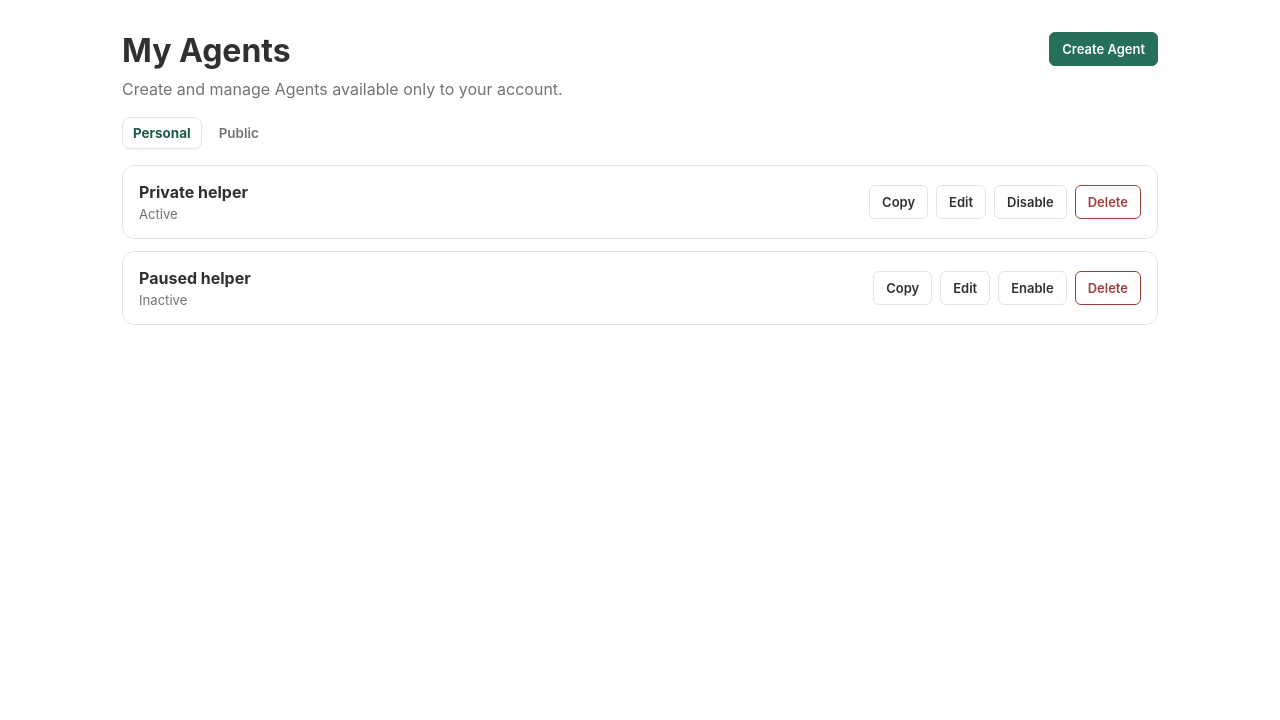
Test: AgentManagementPage › keeps a successfully created Home when Agent creation fails
Click the button "Create Agent": (1104, 49) x1=1049 y1=32 x2=1158 y2=66
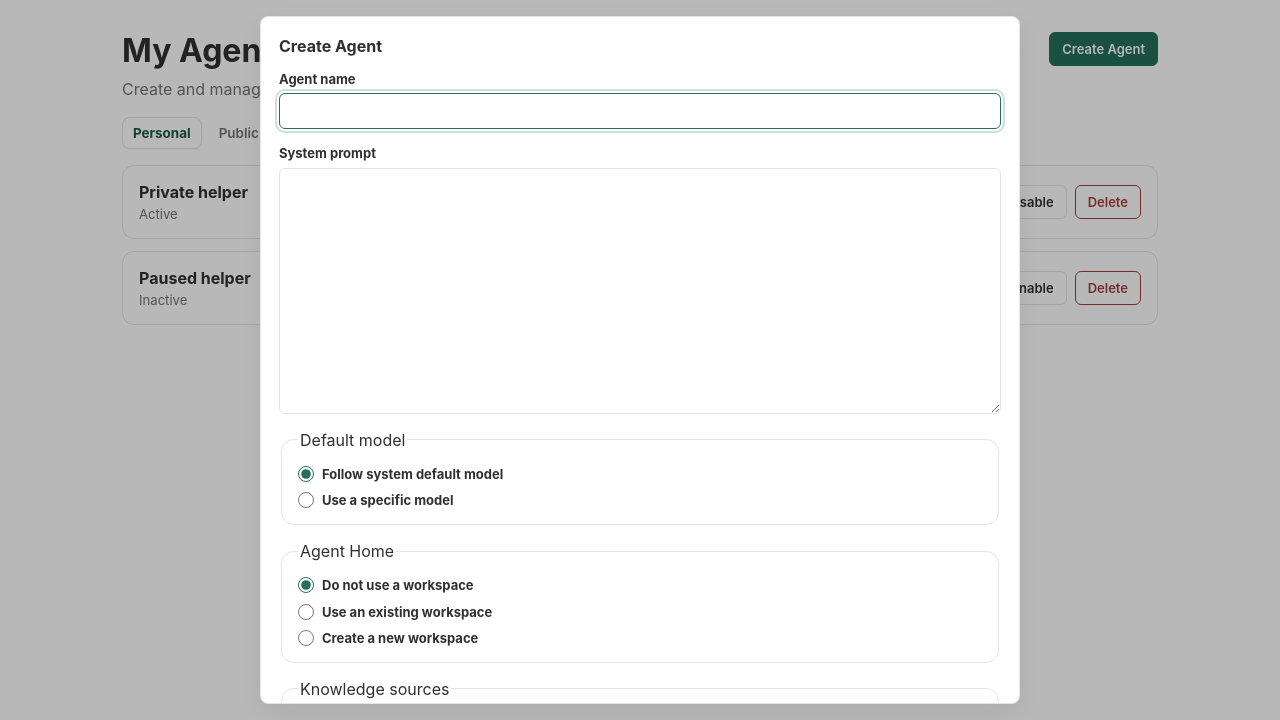
In the field labelled "Agent name": (640, 111) x1=279 y1=93 x2=1001 y2=129, type "Home helper"
In the text box labelled "System prompt": (640, 291) x1=279 y1=168 x2=1001 y2=414, type "Answer clearly."
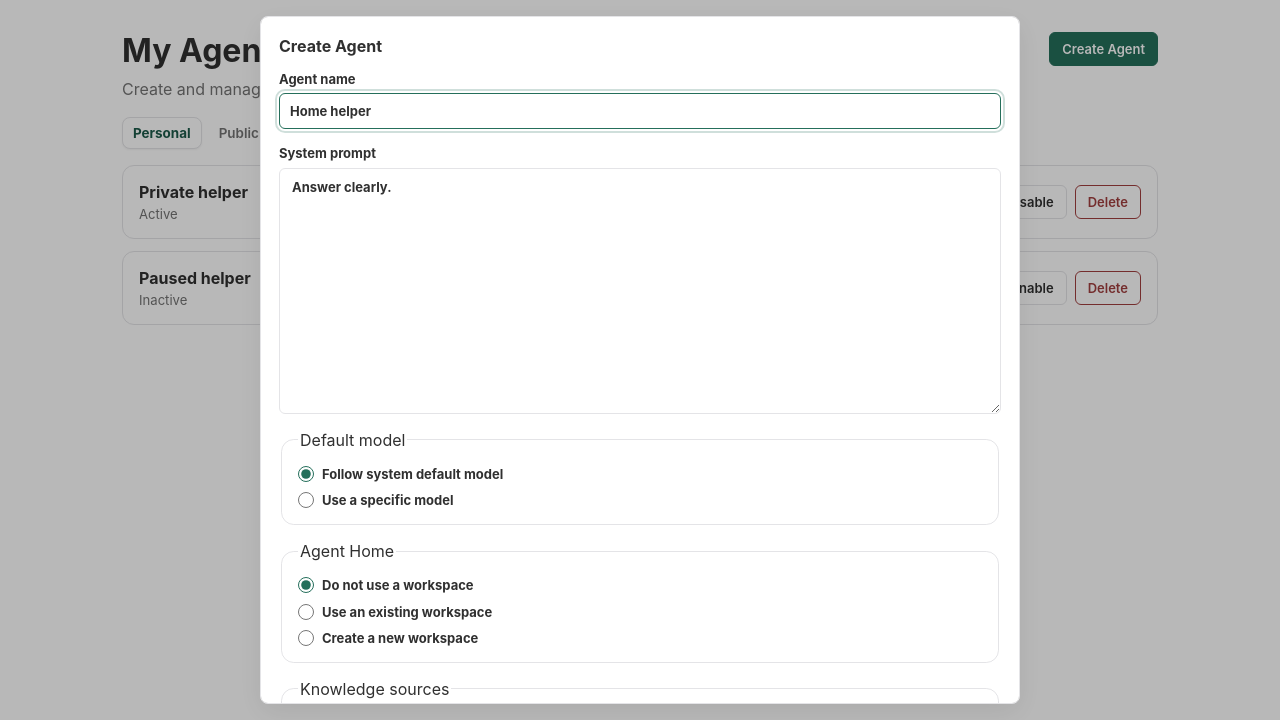
Click the radio button labelled "Create a new workspace": (306, 638) x1=298 y1=630 x2=314 y2=646
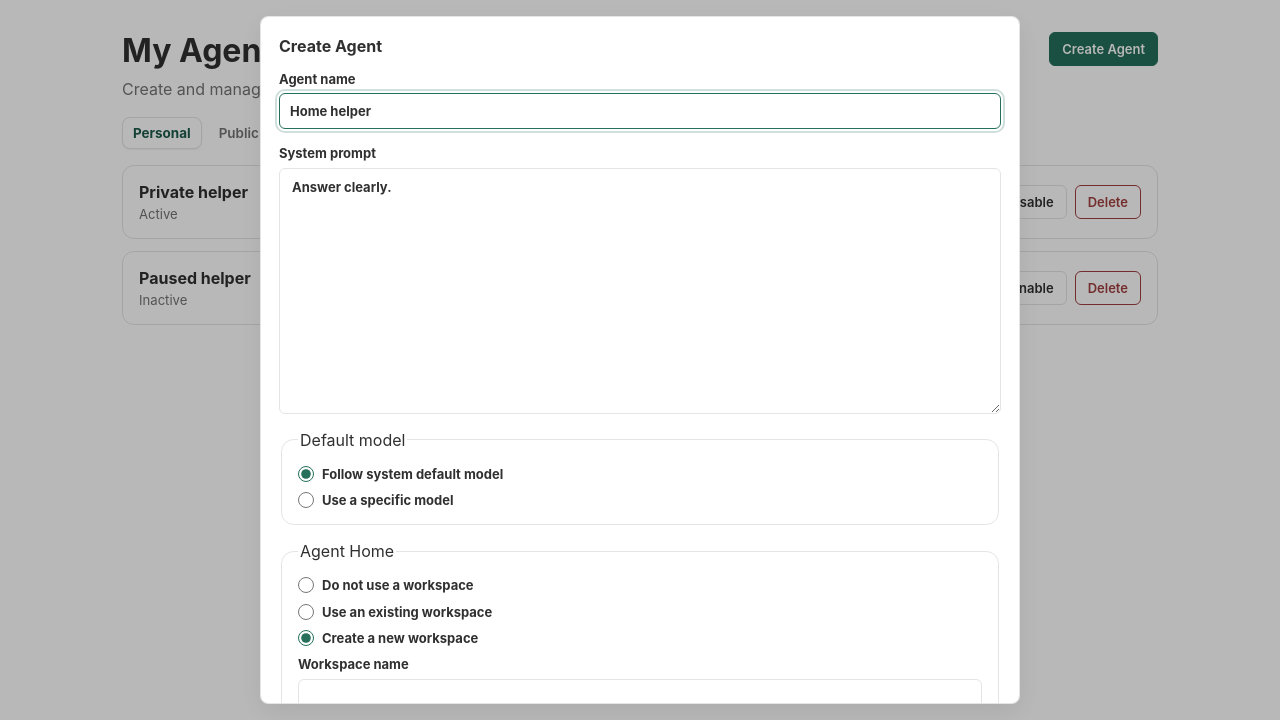
In the field labelled "Workspace name": (640, 697) x1=298 y1=679 x2=982 y2=715, type "My memory"
(page scrolled)
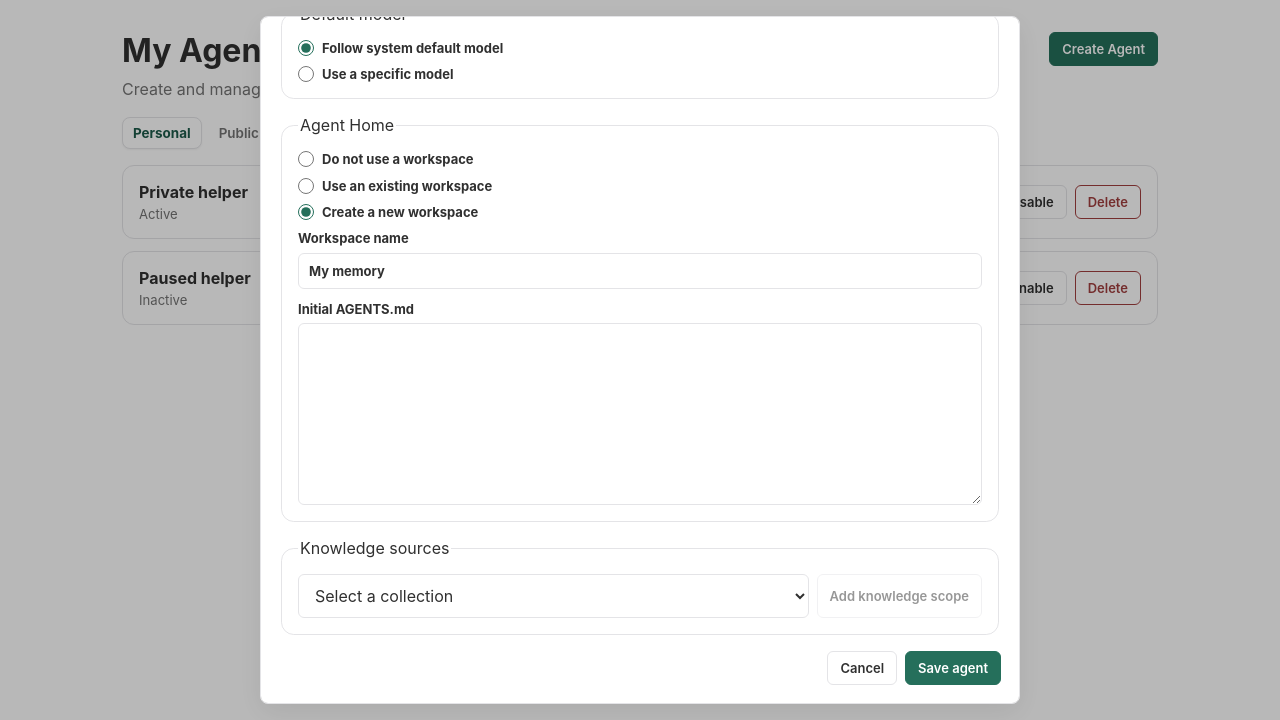
In the text box labelled "Initial AGENTS.md": (640, 414) x1=298 y1=323 x2=982 y2=505, type "# Memory rules"
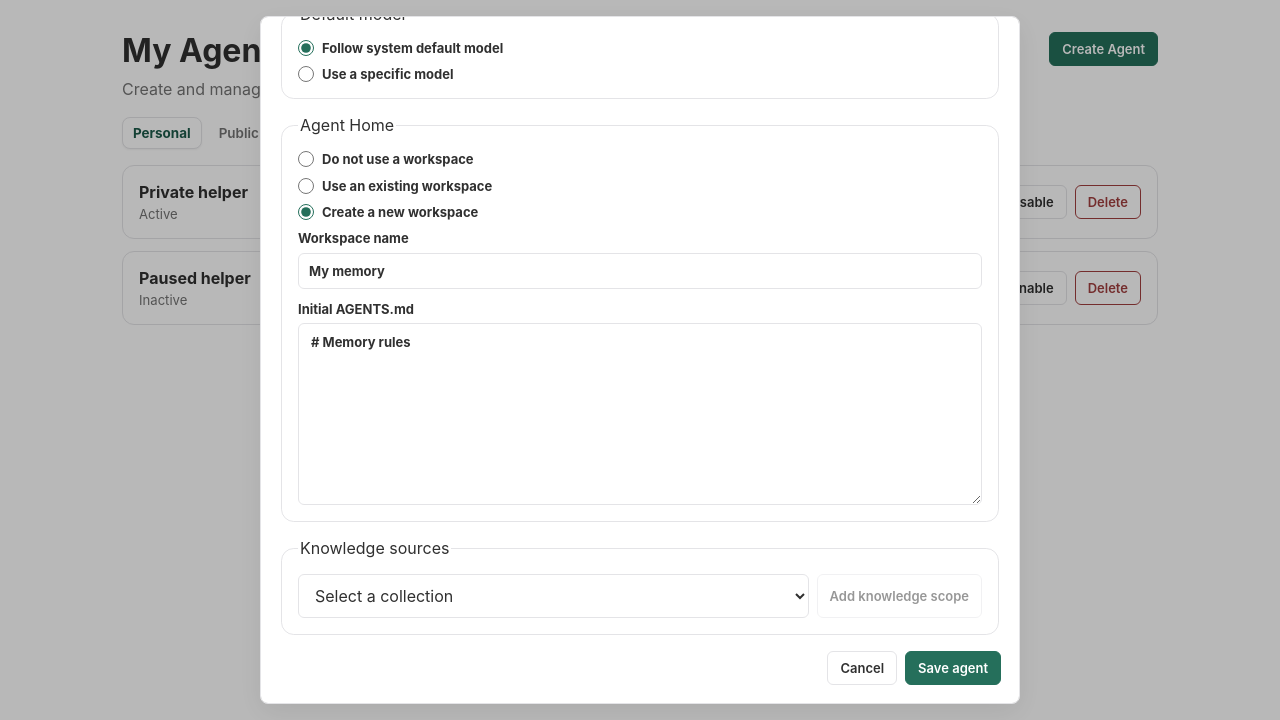
Click the button "Save agent": (953, 668) x1=905 y1=651 x2=1001 y2=685
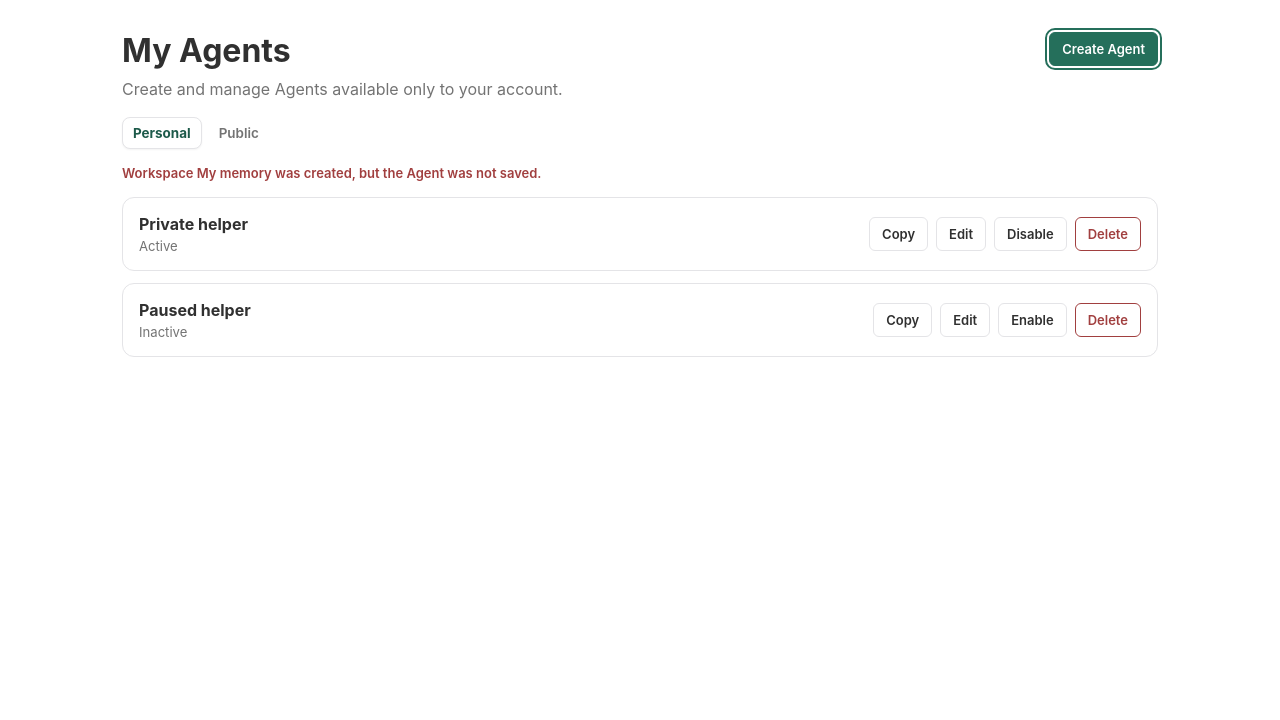
Result: the message reads "Workspace My memory was created, but the Agent was not saved." at x1=122 y1=165 x2=542 y2=181
Result: the dialog is gone
